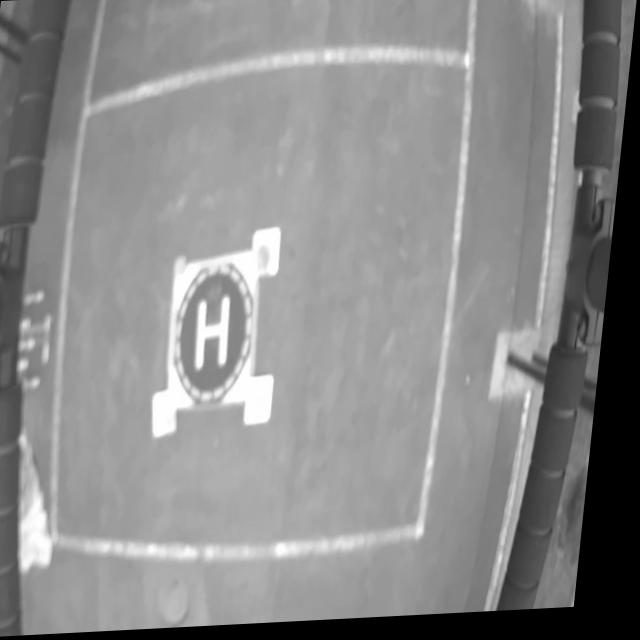Helipad: (200, 298, 237, 372)
